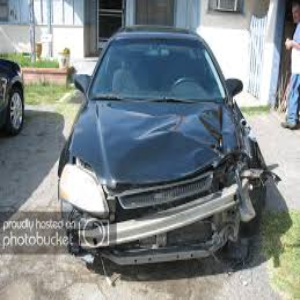bonnet: (109, 98, 223, 169)
bumper: (119, 200, 236, 261)
